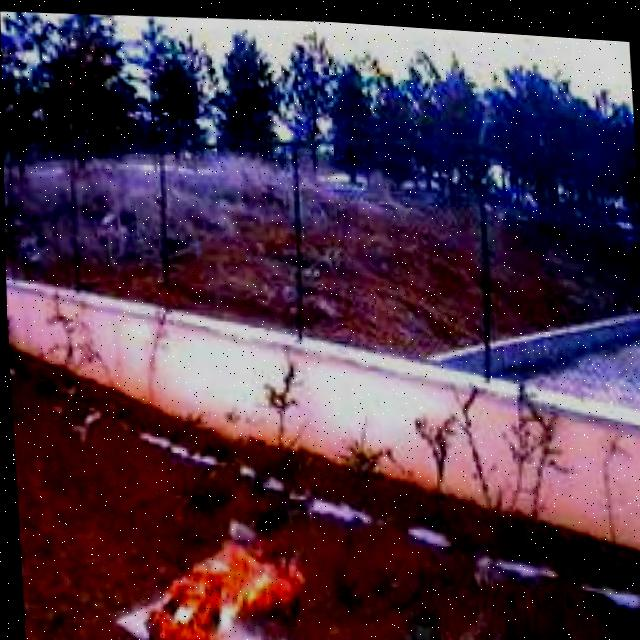Fire: (129, 517, 309, 640)
